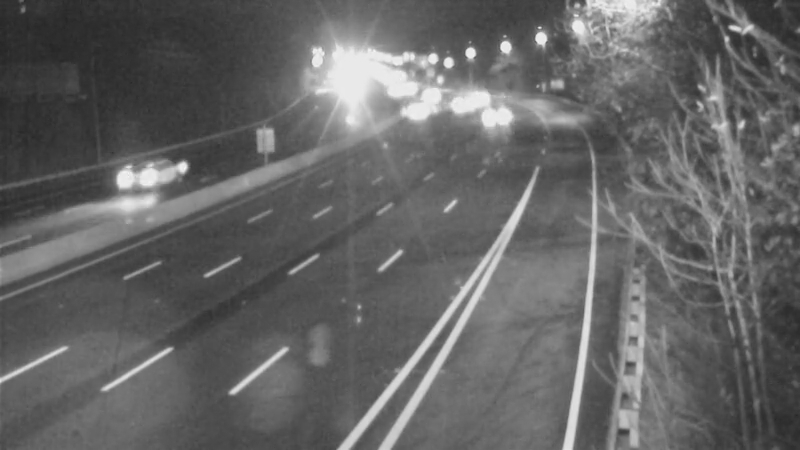vehicle: (96, 139, 176, 219), (369, 64, 419, 114), (406, 70, 456, 120), (454, 72, 504, 122), (434, 82, 484, 132), (397, 83, 447, 133), (463, 88, 513, 138)
